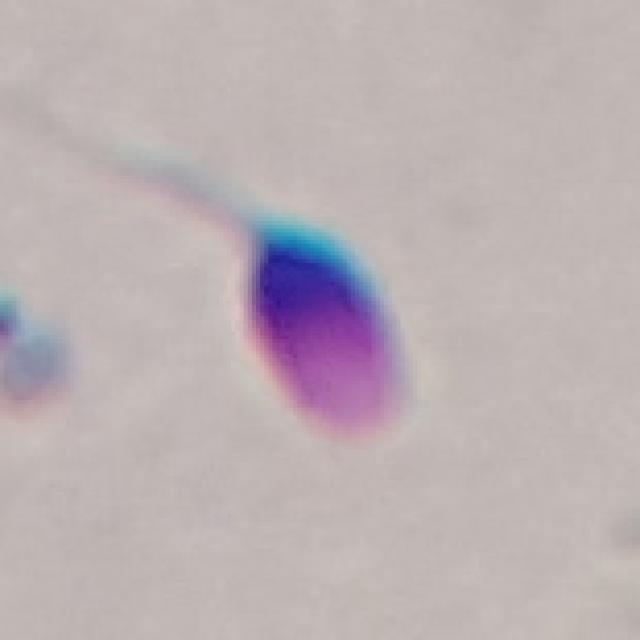normal sperm: (156, 166, 414, 448)
